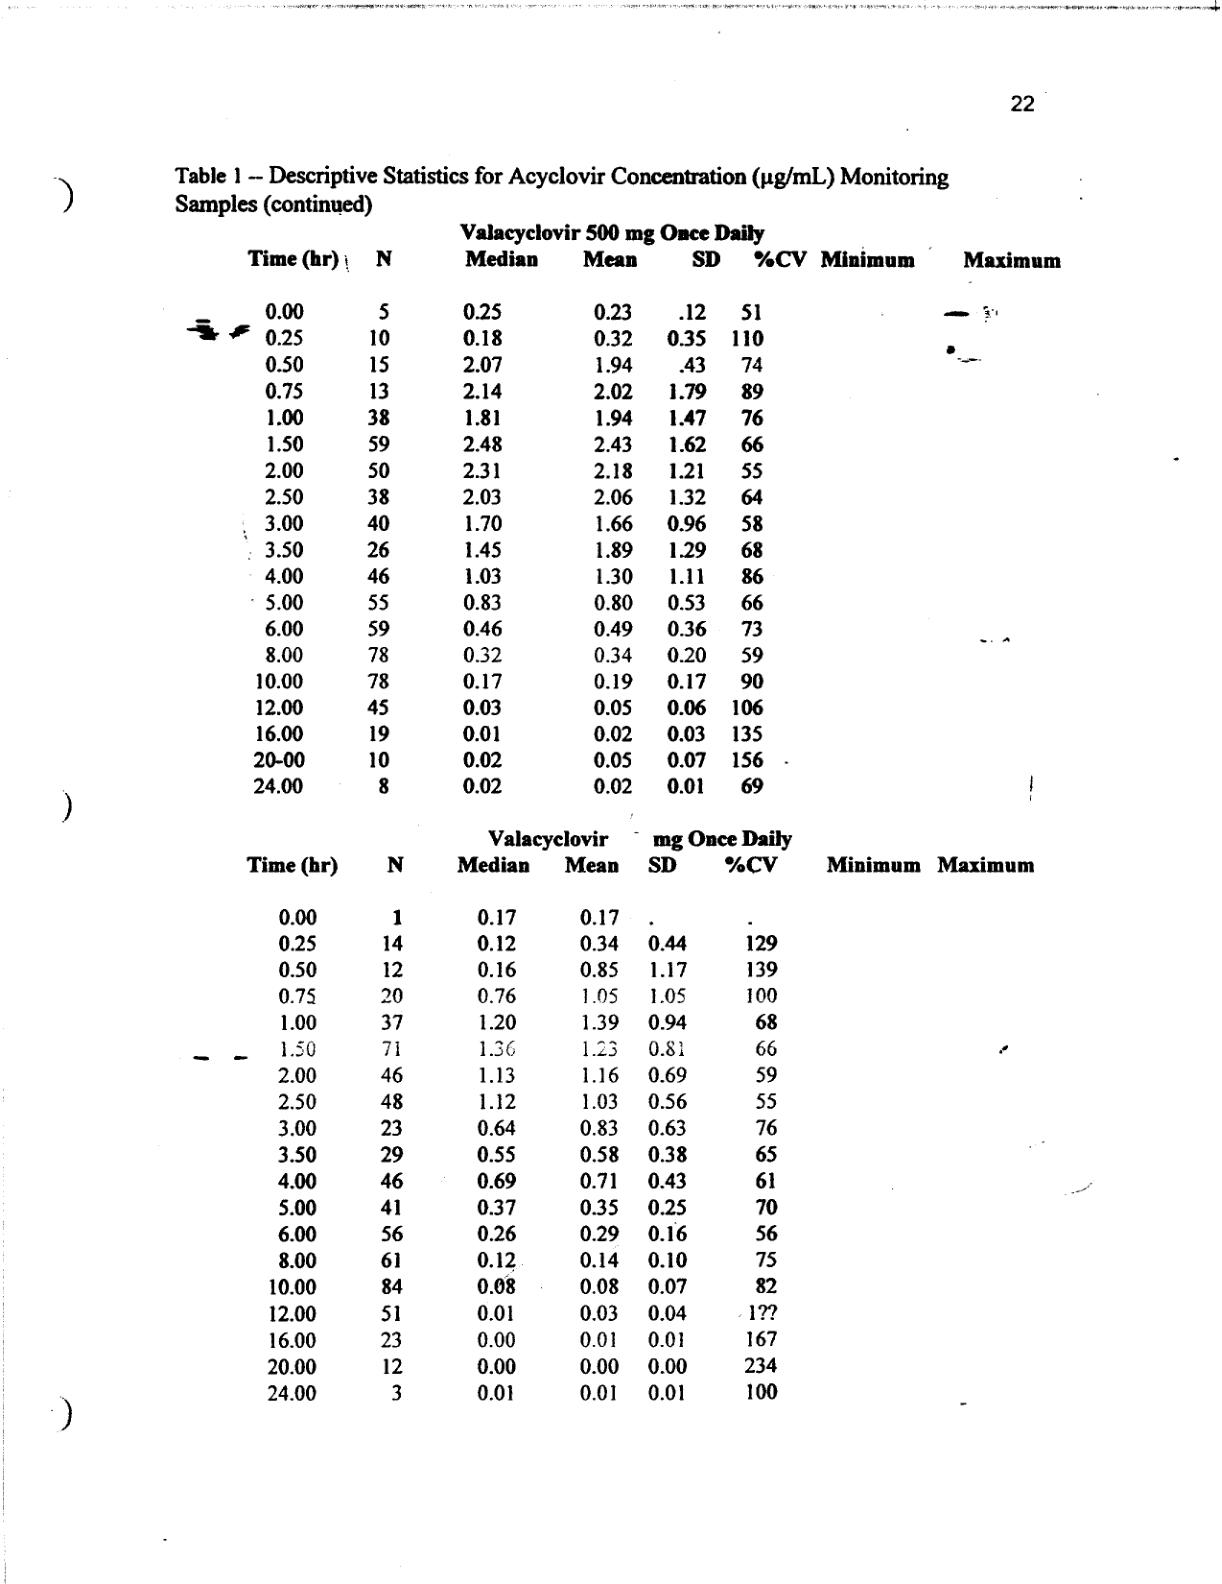nolines: (248, 220, 1065, 796), (246, 827, 1035, 1408)
